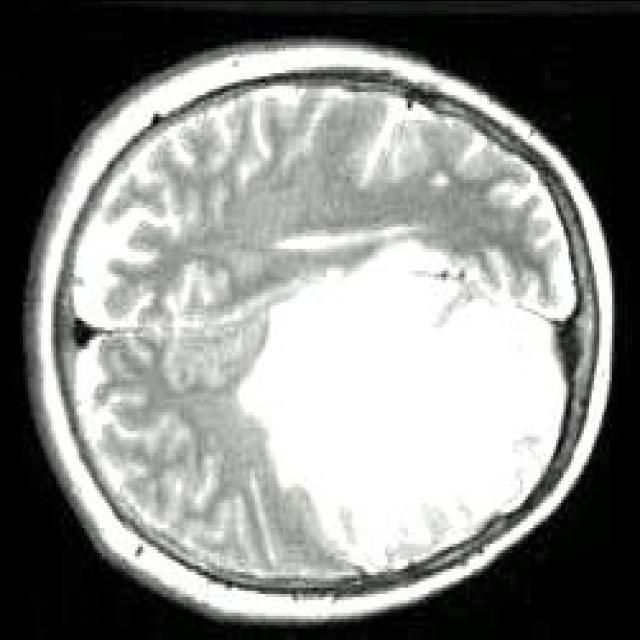tumor: (237, 242, 571, 577)
